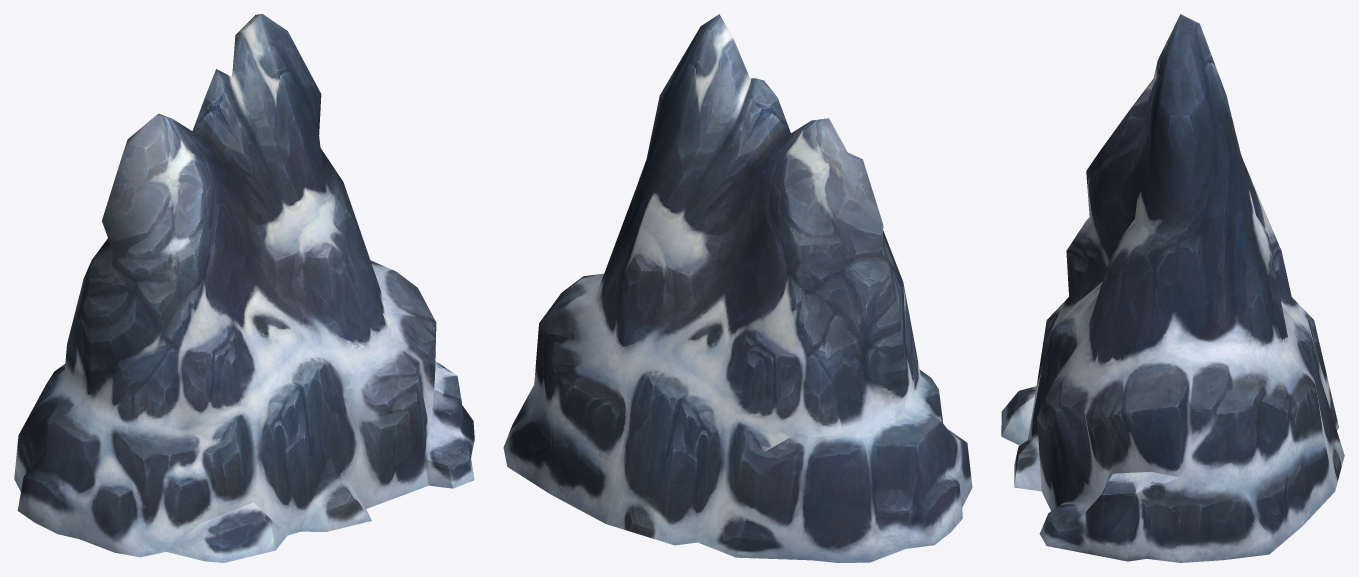
File: Stone11.FBX
3 renders of one model, left to right at view 1: azimuth 30°, elevation 25°; view 2: azimuth 150°, elevation 25°; view 3: azimuth 270°, elevation 25°, orthographic.
Visible parts, largest first — view 1: Stone11; view 2: Stone11; view 3: Stone11.
Part boxes in pixels (x1,y1,x2,y2): Stone11: (14, 14, 474, 562); Stone11: (503, 14, 972, 562); Stone11: (1001, 14, 1344, 562).
Bounding box in the file's own units: 696 × 733 × 496.
